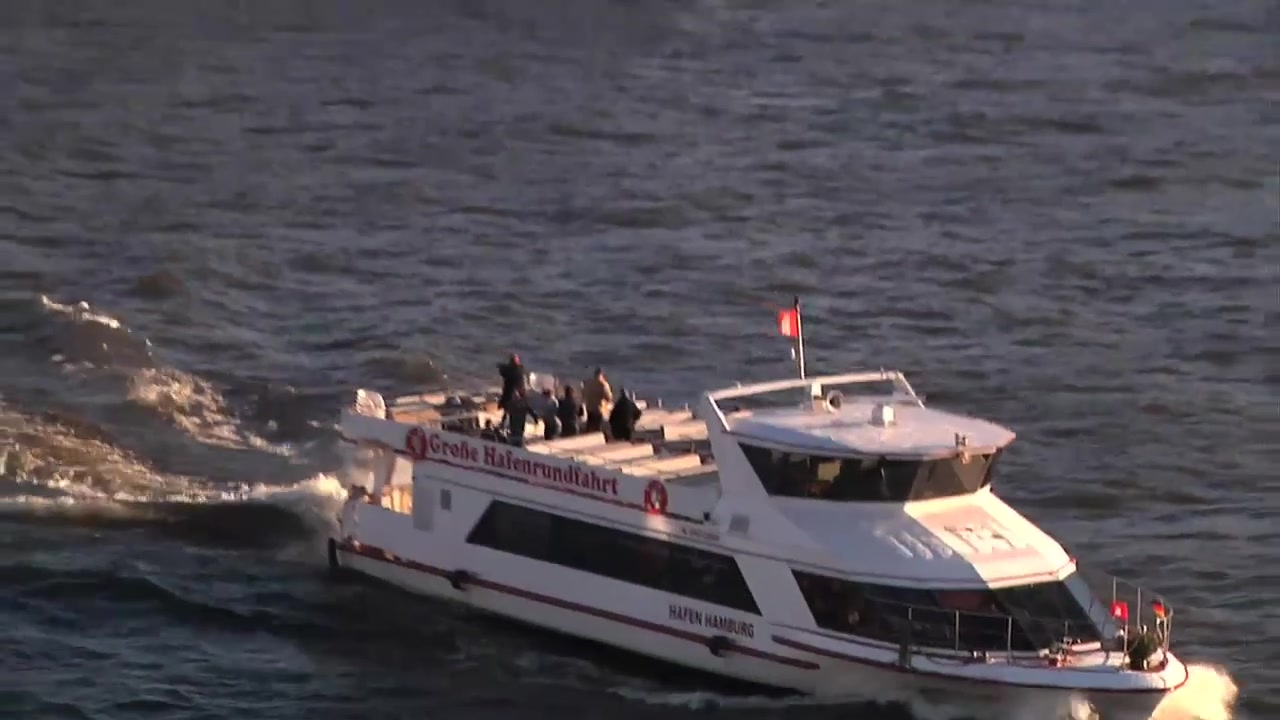boat: (320, 367, 1200, 720)
